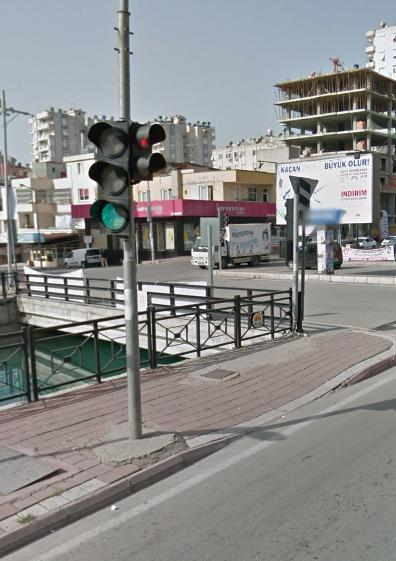greenlight: (91, 117, 139, 236)
